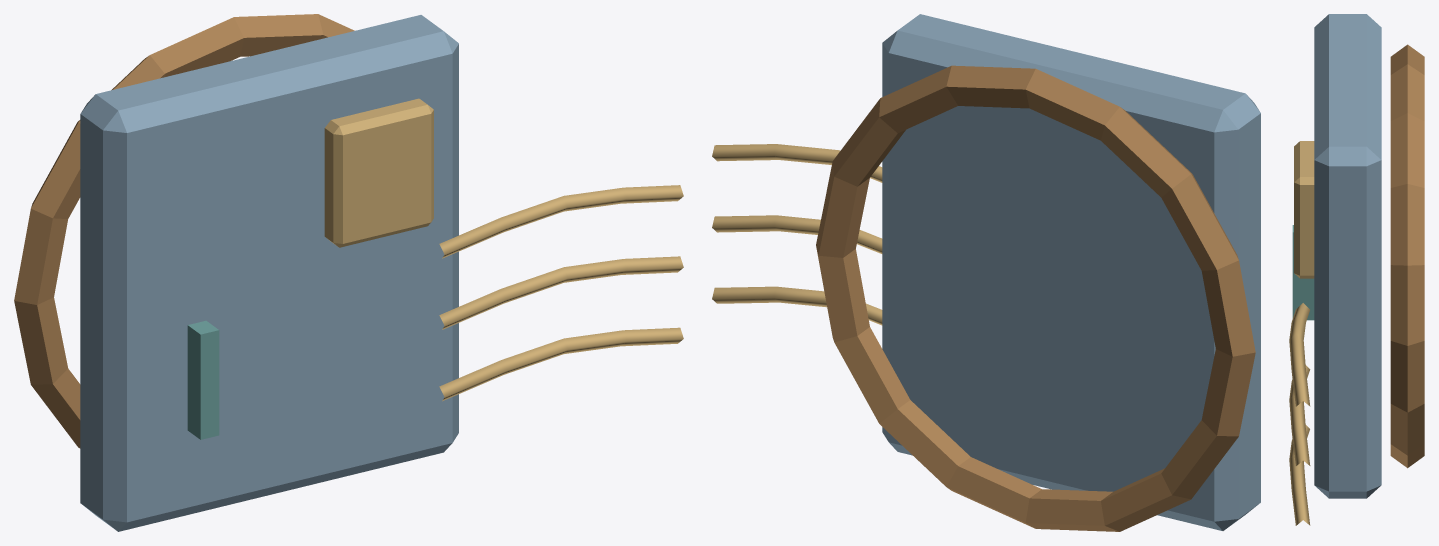
File: quadruped_cleaner.glb
3 views of the same model, side by side, from view 1: azimuth 30°, elevation 25°; view 2: azimuth 150°, elevation 25°; view 3: azimuth 270°, elevation 25° (orthographic). The views are drawn at different scales.
Parts seen in each view (by area): view 1: quadruped_cleaner; view 2: quadruped_cleaner; view 3: quadruped_cleaner.
Part boxes in pixels (left/top/right/bottom): quadruped_cleaner: left=14, top=14, right=683, bottom=531; quadruped_cleaner: left=712, top=14, right=1260, bottom=531; quadruped_cleaner: left=1289, top=14, right=1424, bottom=525.
Size of the model in its own units: 0.3898 by 0.284 by 0.0907.
